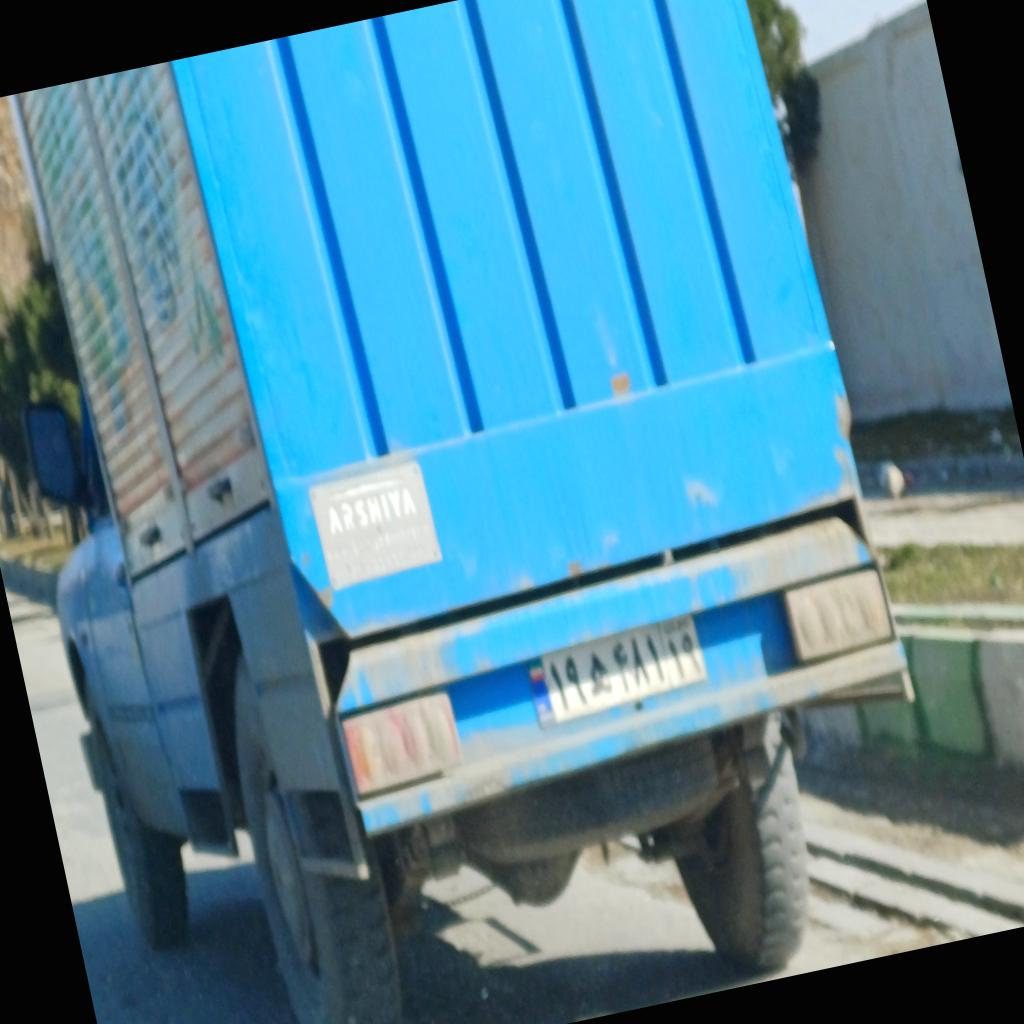Plates: (522, 615, 710, 722)
